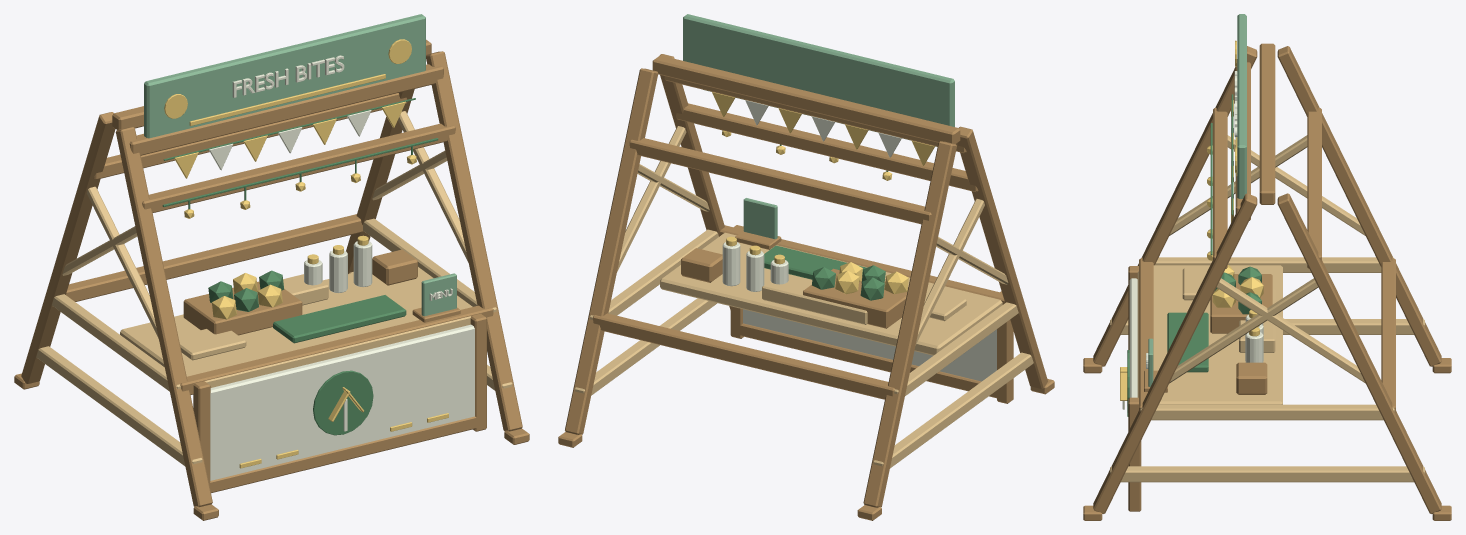
File: food_booth_s2.glb
3 views of the same model, side by side, from view 1: azimuth 30°, elevation 25°; view 2: azimuth 150°, elevation 25°; view 3: azimuth 270°, elevation 25° (orthographic). The views are drawn at different scales.
Visible parts, largest first — view 1: Tutorial_CanopyBooth_s2; view 2: Tutorial_CanopyBooth_s2; view 3: Tutorial_CanopyBooth_s2.
Part boxes in pixels (box(x1,y1,x2,y2)): Tutorial_CanopyBooth_s2: box(14, 14, 529, 520); Tutorial_CanopyBooth_s2: box(558, 14, 1054, 520); Tutorial_CanopyBooth_s2: box(1083, 14, 1451, 520).
Size of the model in its own units: 4.27 by 4.65 by 4.27.
